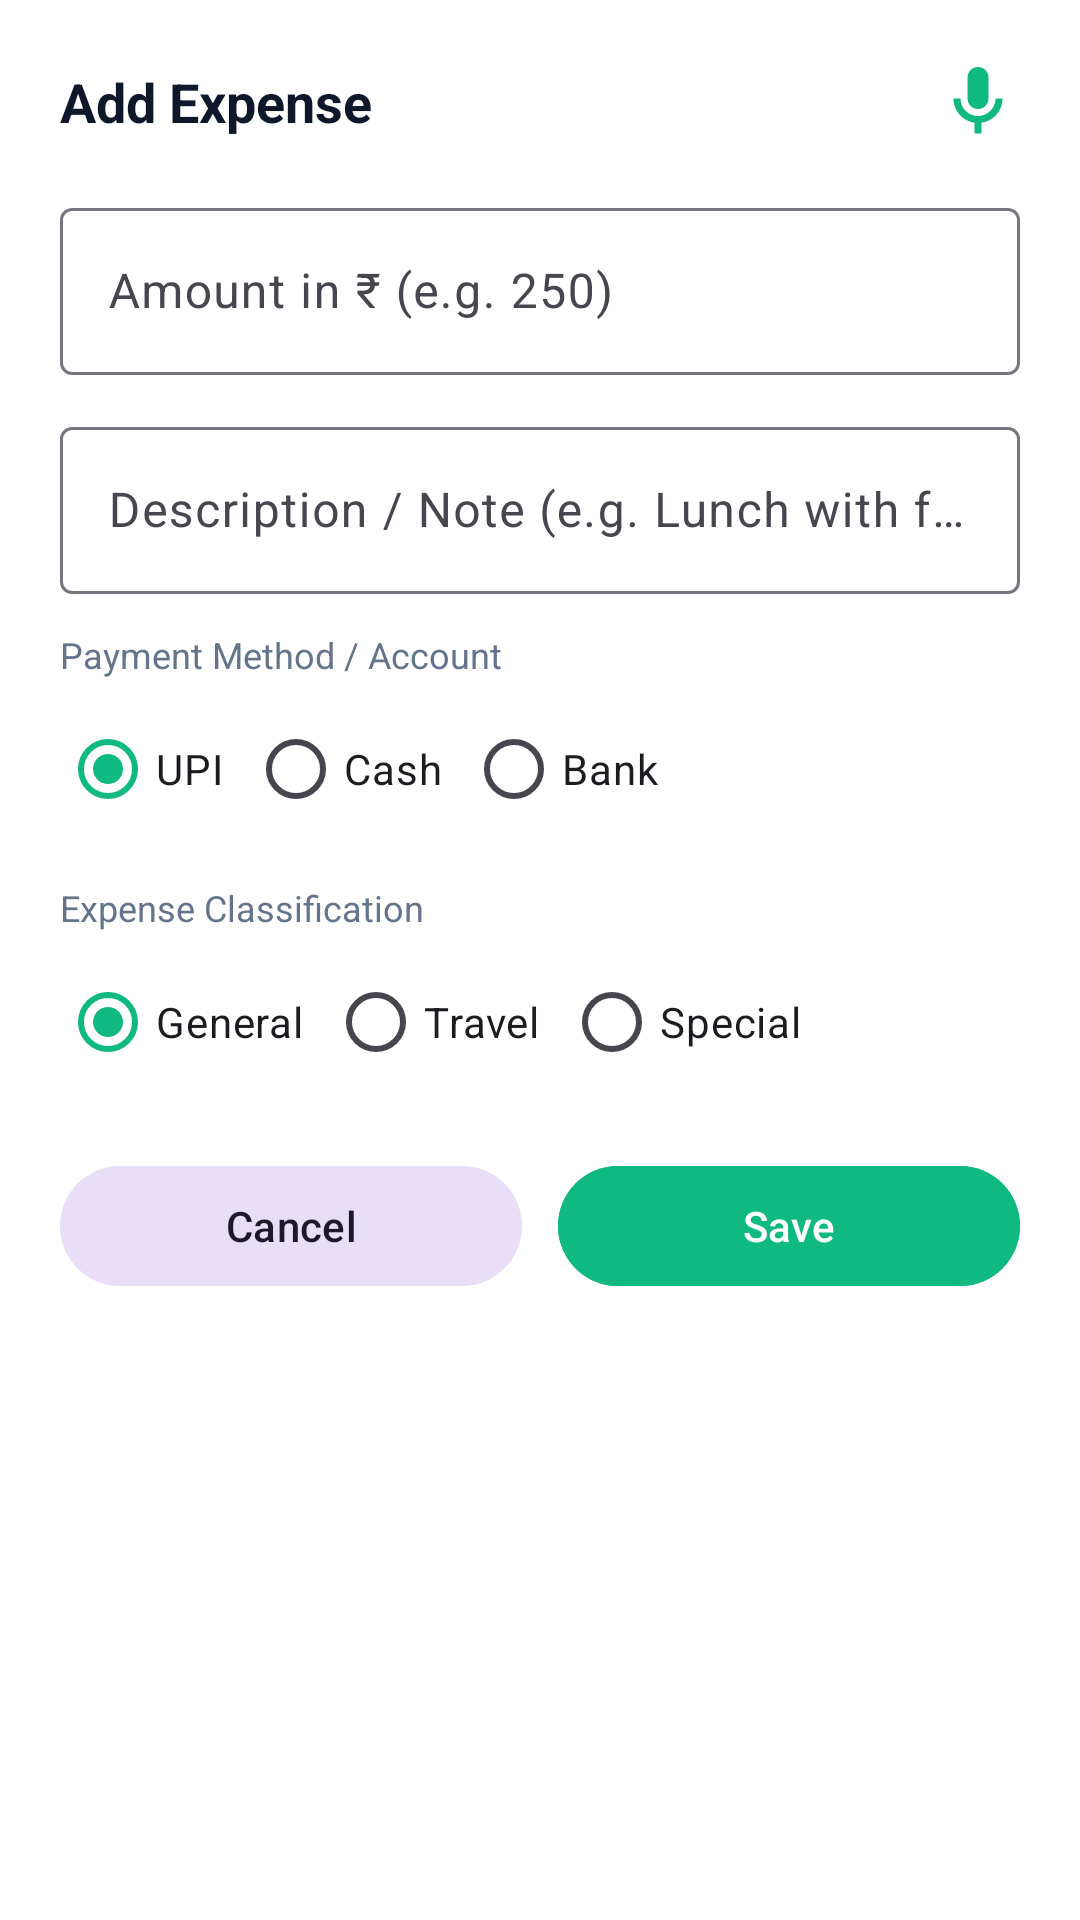

Point at icon controls on the screen. Image size 1080 × 1920, points as point (x, y).
Voice Assistant: point (978, 100)
